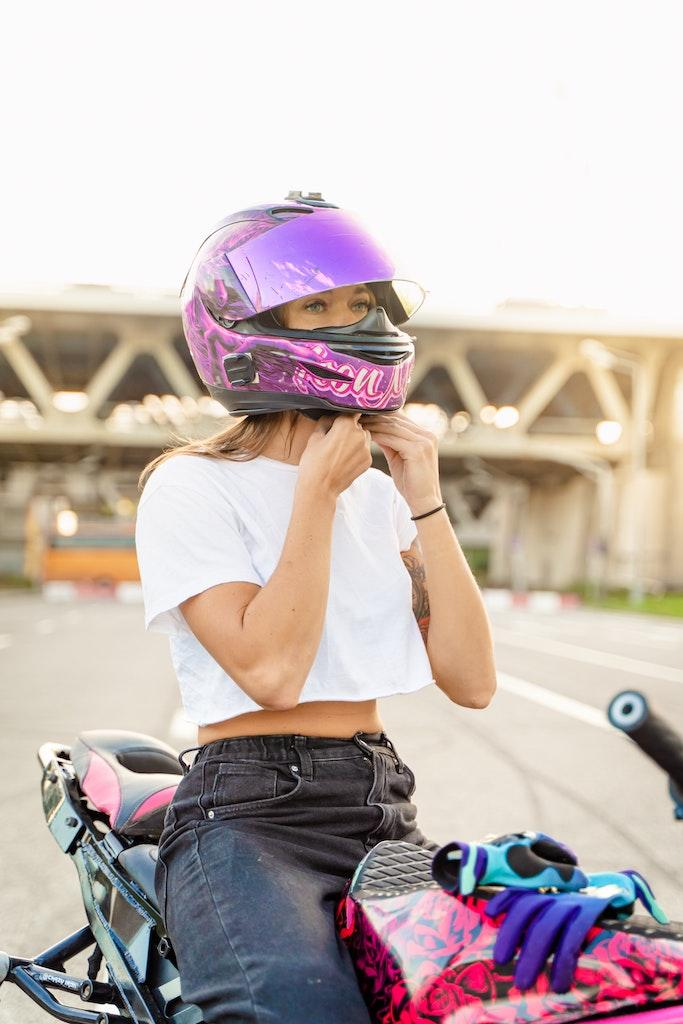helmet: (178, 188, 431, 418)
